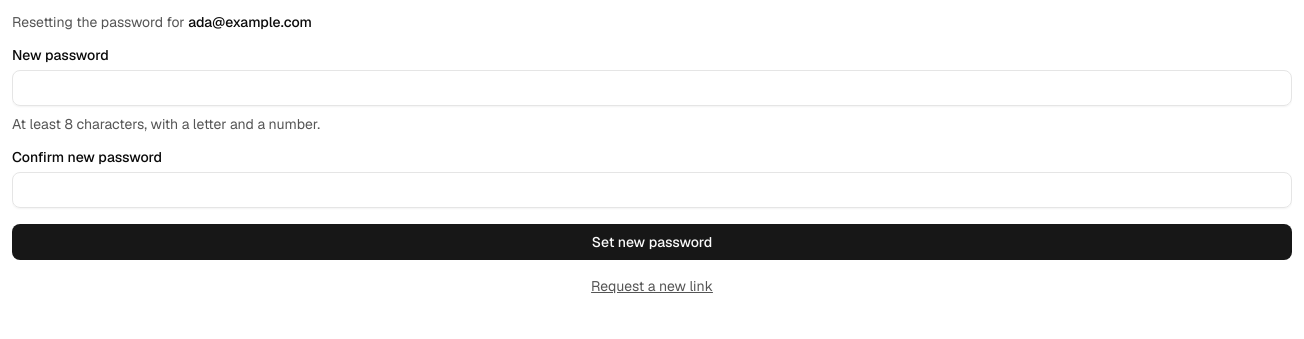
Test: ResetPasswordForm › F01_Reset_MismatchedPasswords_BlockedClientSide
In the password field labelled "New password": x=652, y=88 [12,70,1292,106], type "Passw0rd!"
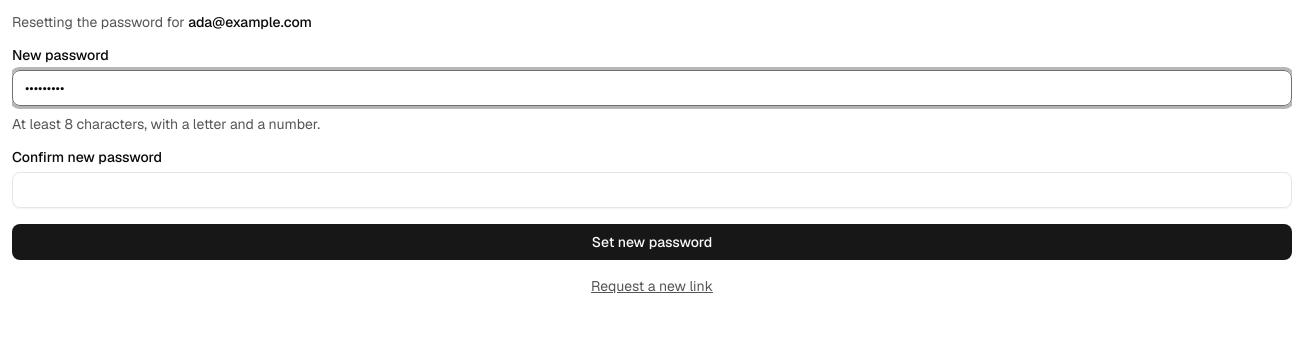
In the password field labelled "Confirm new password": x=652, y=190 [12,172,1292,208], type "Other1234"
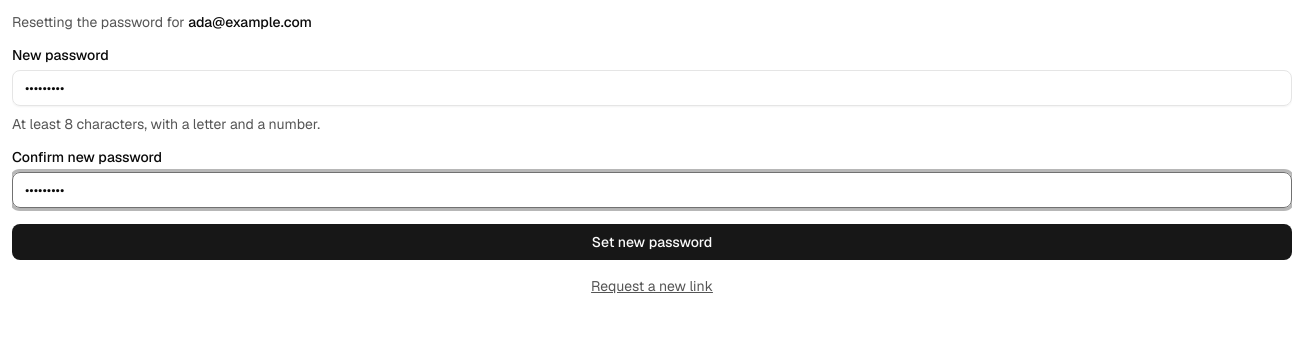
Click the button "Set new password": x=652, y=242 [12,224,1292,260]
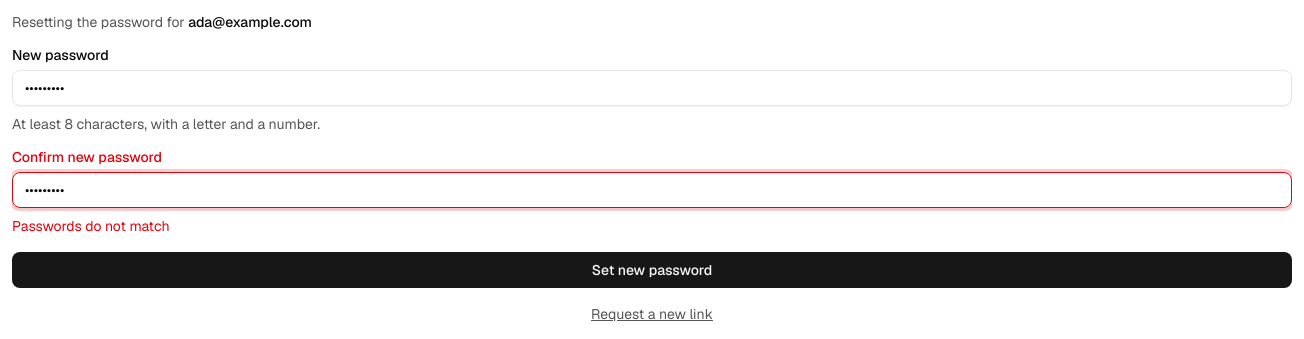
Expected: the text "Passwords do not match" is shown, [12,217,170,235]
